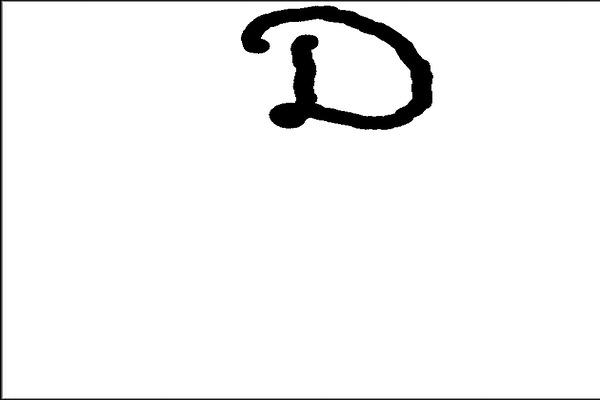D: (237, 2, 440, 137)
